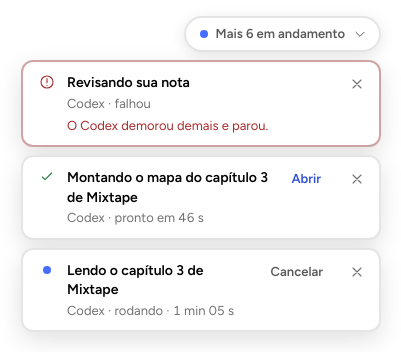
Scenario: apagar e cancelar › o aviso do canto cancela o pedido na fila ou rodando, e some
Click the button with aria-label "Cancelar: Lendo o capítulo 3 de Mixtape" at (297, 272), box [261, 256, 333, 288]
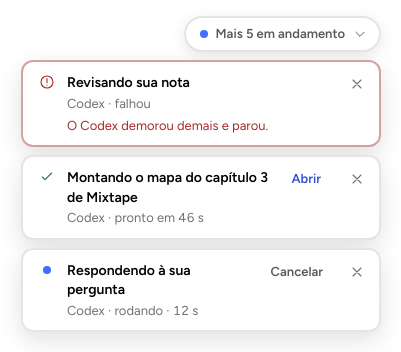
Expected: the text "Lendo o capítulo 3 de Mixtape" is gone
